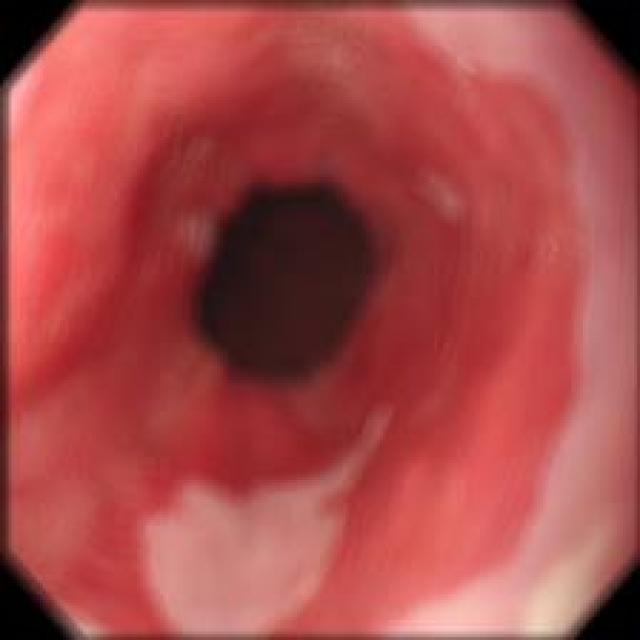blur: (1, 1, 638, 636), (102, 50, 516, 420), (140, 406, 408, 630)
contrast: (190, 169, 392, 390)
